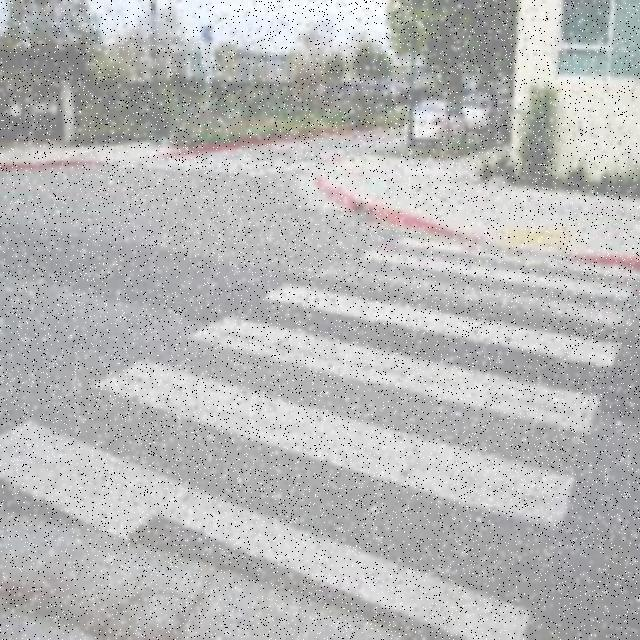crosswalk: (1, 233, 640, 640)
